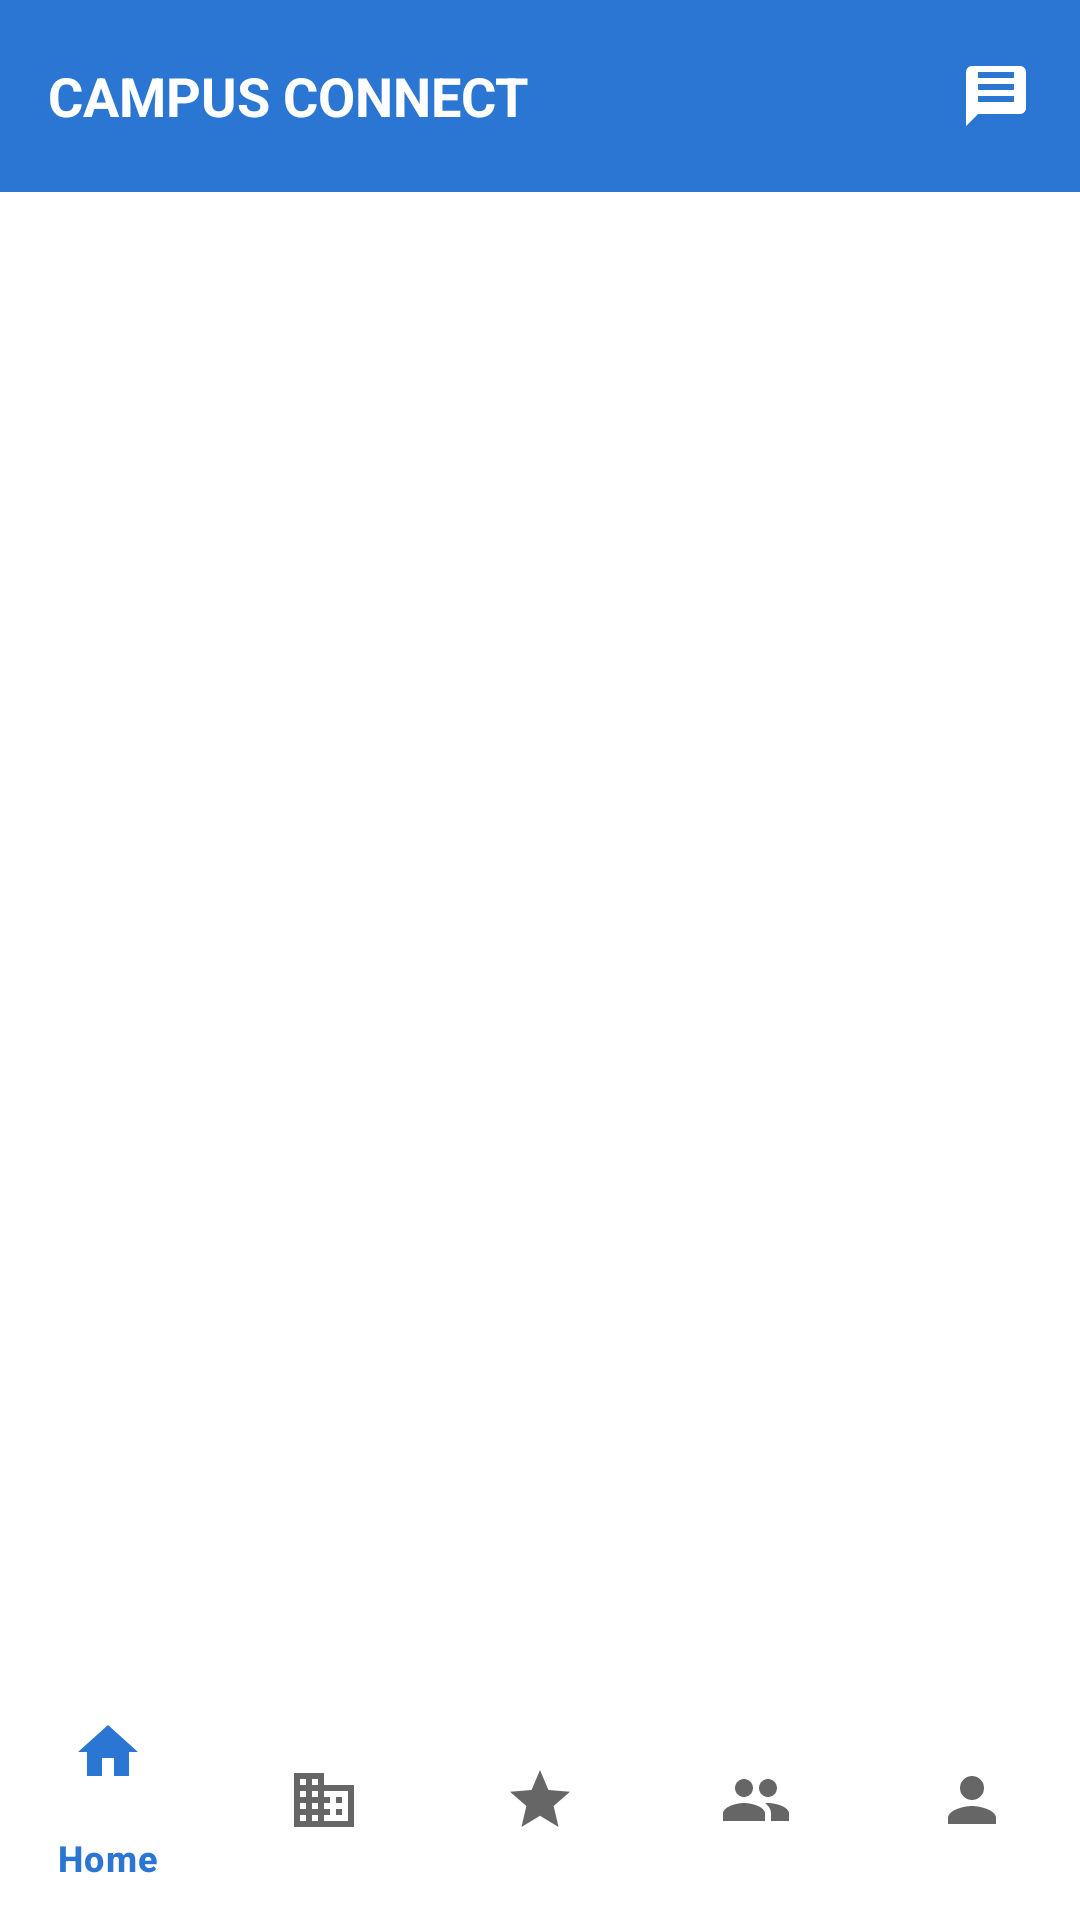

Icons on this 1080x1920 Android screen, each with its box as (x1, y1, x2, y2):
messages toolbar: (966, 66, 1026, 126)
